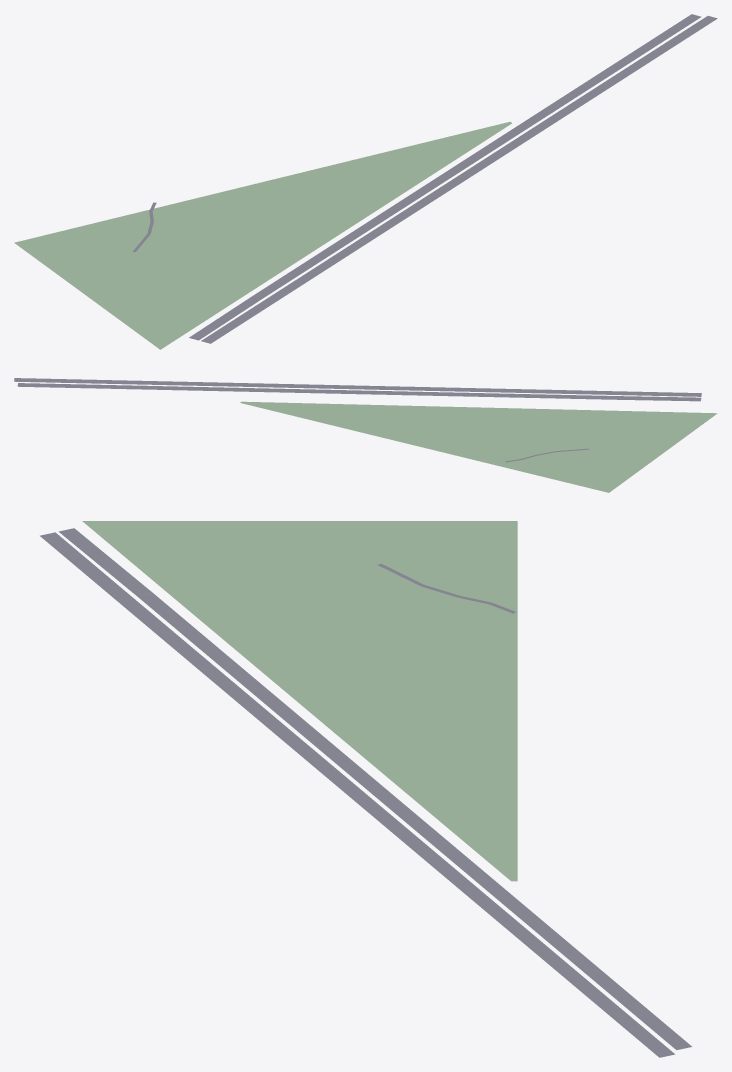
The model's file is 129_128_mid.glb.
3 renders of one model, top to bottom at view 1: azimuth 30°, elevation 25°; view 2: azimuth 150°, elevation 25°; view 3: azimuth 270°, elevation 25°, orthographic. The views are drawn at different scales.
Bounding box in the file's own units: 757 × 7.49 × 383.
